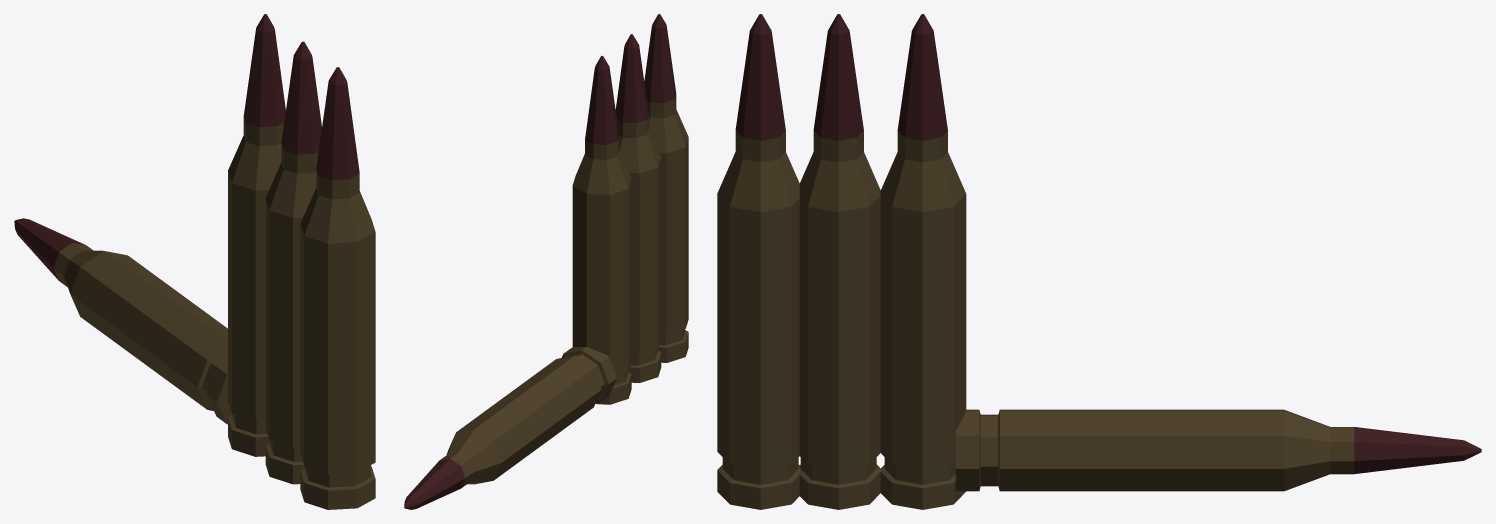
Rendered from AK47_Ammo.fbx.
3 renders of one model, left to right at view 1: azimuth 30°, elevation 25°; view 2: azimuth 150°, elevation 25°; view 3: azimuth 270°, elevation 25°, orthographic. The views are drawn at different scales.
Parts seen in each view (by area): view 1: AK Ammo; view 2: AK Ammo; view 3: AK Ammo.
Boxes of the visible parts, <box> form: AK Ammo: <box>14,14,375,509</box>; AK Ammo: <box>404,14,688,509</box>; AK Ammo: <box>717,14,1481,509</box>.
Size of the model in its own units: 61.94 by 375 by 544.
